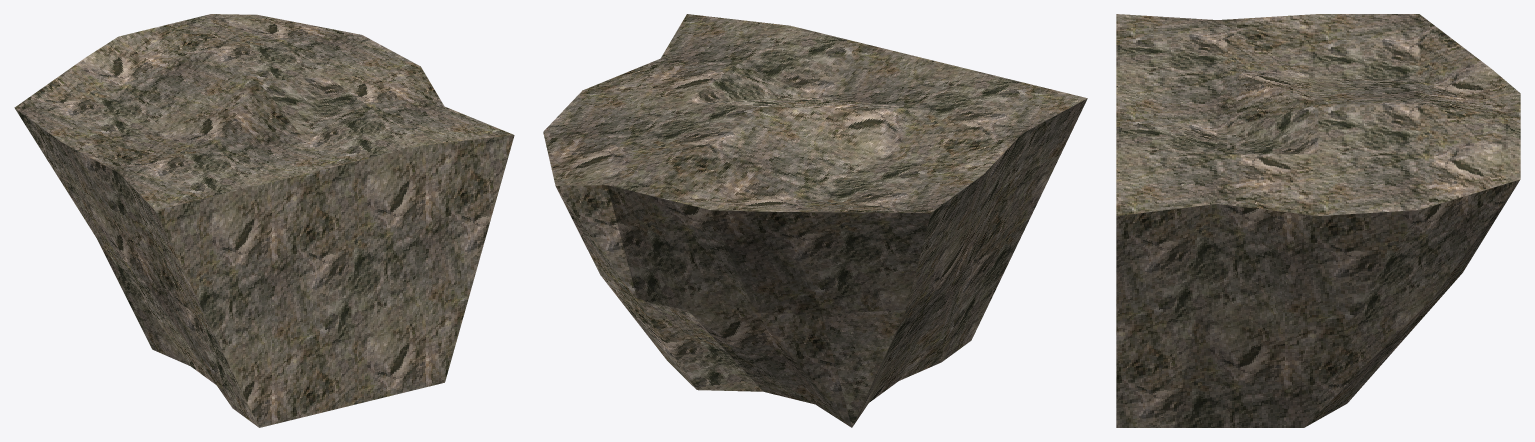
Rendered from rock_4.gltf.
3 views of the same model, side by side, from view 1: azimuth 30°, elevation 25°; view 2: azimuth 150°, elevation 25°; view 3: azimuth 270°, elevation 25° (orthographic). The views are drawn at different scales.
Visible parts, largest first — view 1: mesh; view 2: mesh; view 3: mesh.
Part boxes in pixels (box(x1,y1,x2,y2)): mesh: box(14, 14, 514, 427); mesh: box(543, 14, 1087, 427); mesh: box(1116, 14, 1520, 427).
Bounding box in the file's own units: 1.94 × 1.31 × 1.75.
1 material, 1 textured.
